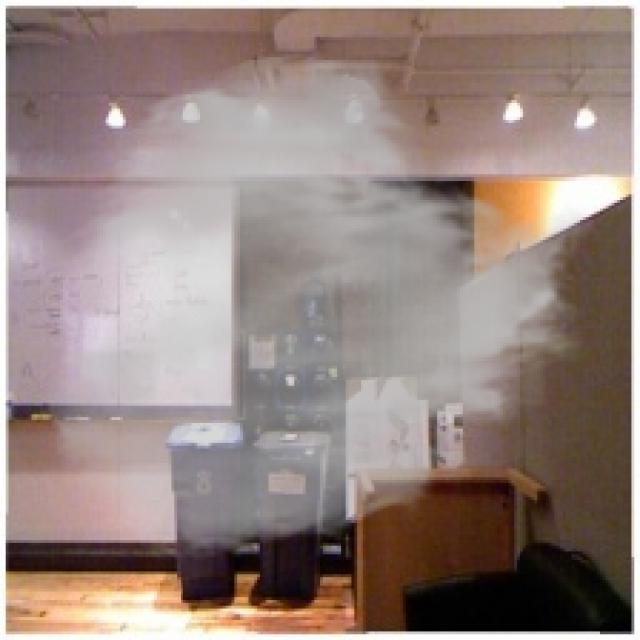smoke: (43, 48, 597, 563)
